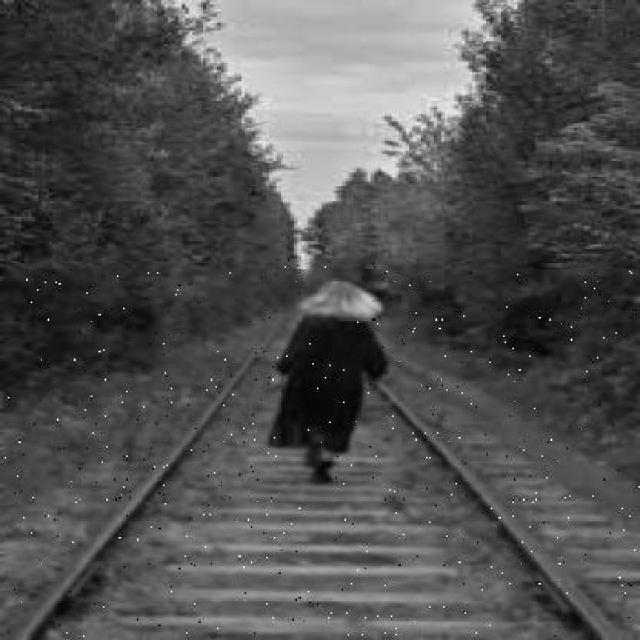rail: (6, 271, 640, 638)
